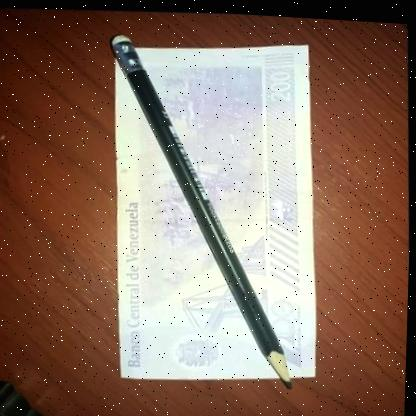vef_back: (106, 30, 326, 387)
